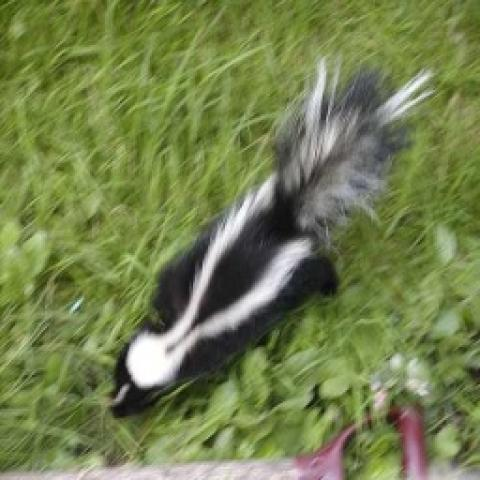small_animal: (105, 88, 397, 418)
